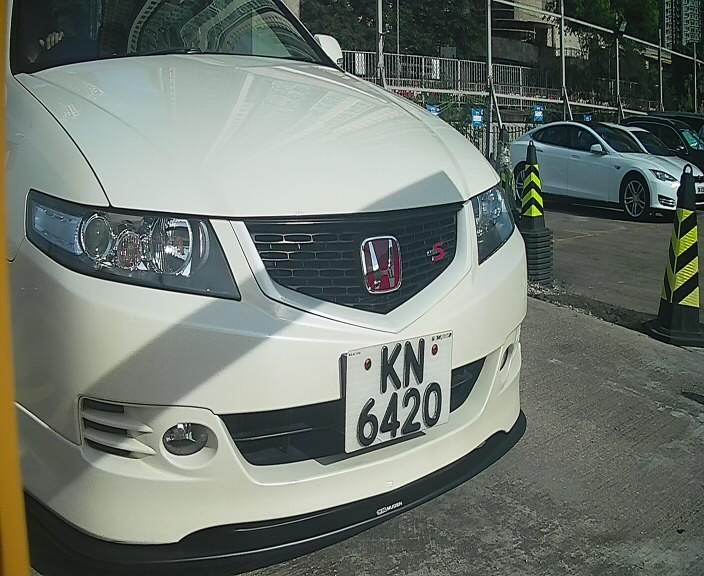License Plate: (334, 322, 463, 463)
